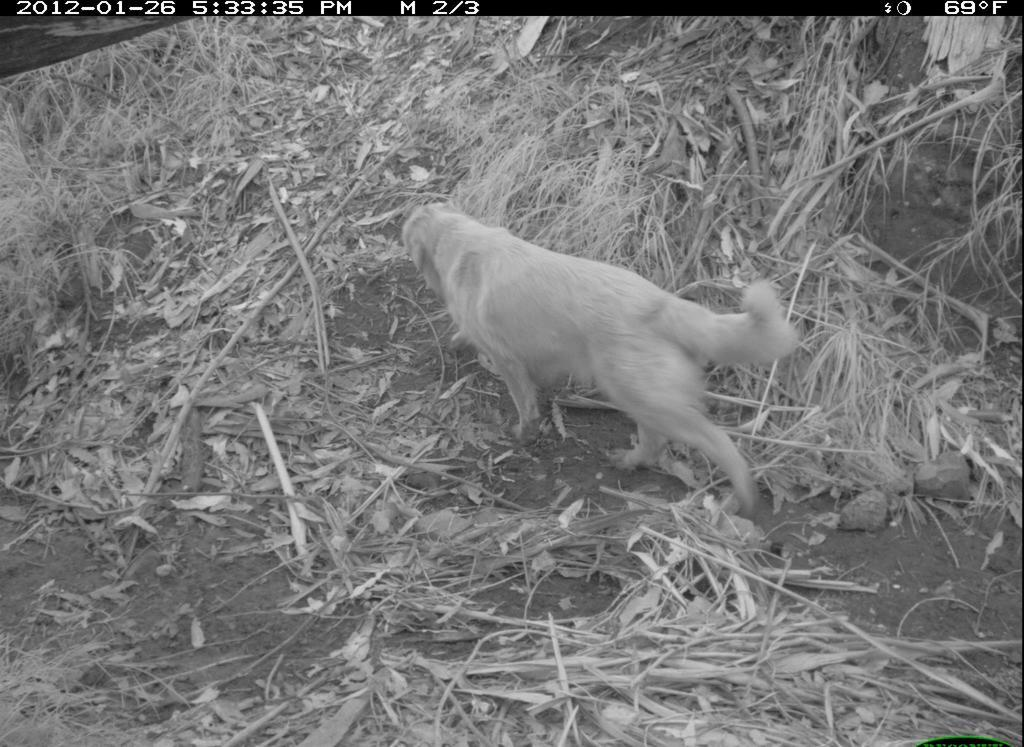dog: (399, 199, 798, 530)
